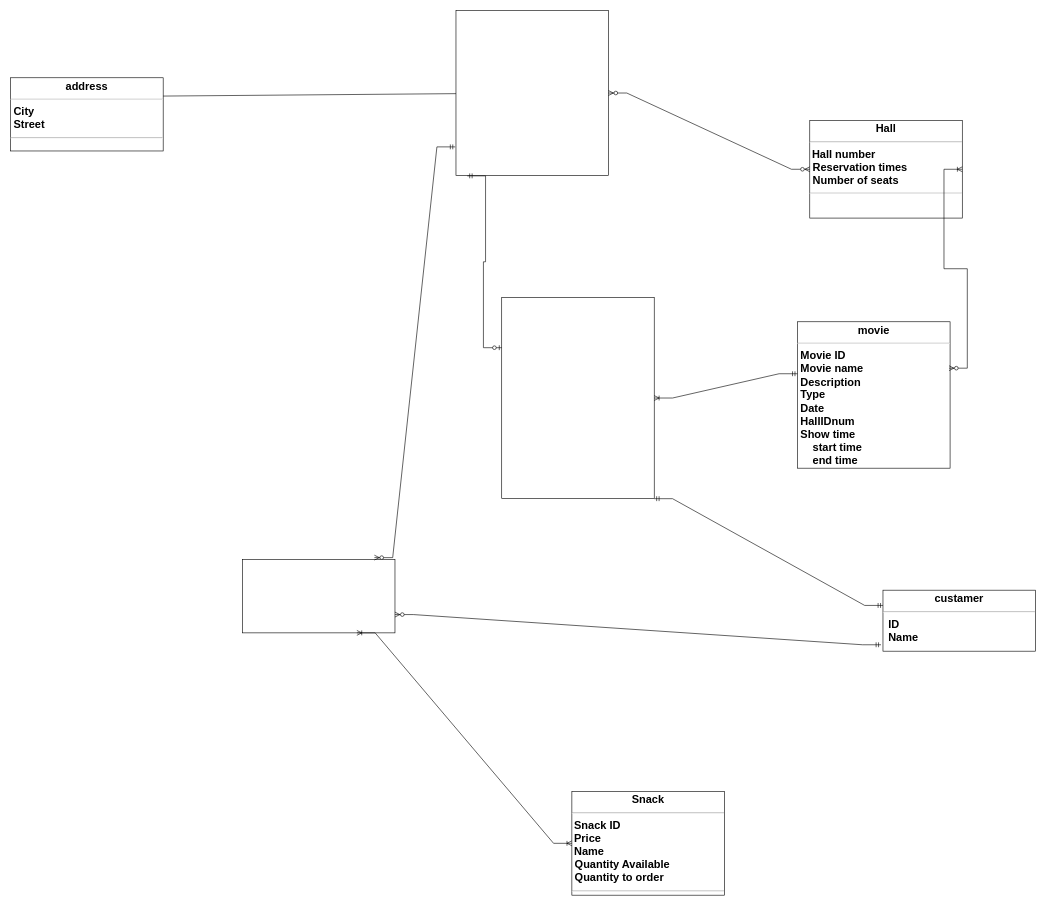
This 1046x906 diagram has some shape labels left out. The shapes that lost their labels are listed below. From the top down, each one's centre as x and y in pixels, then its label:
At (x=531, y=92): "Employee IDnum Name Gender Birthday Phone num Salary -age".
At (x=577, y=398): "Tiket Tiket ID Name of the movie Date Time Hall num Price Seat num Remaining num".
At (x=318, y=596): "Bill ID total price".
